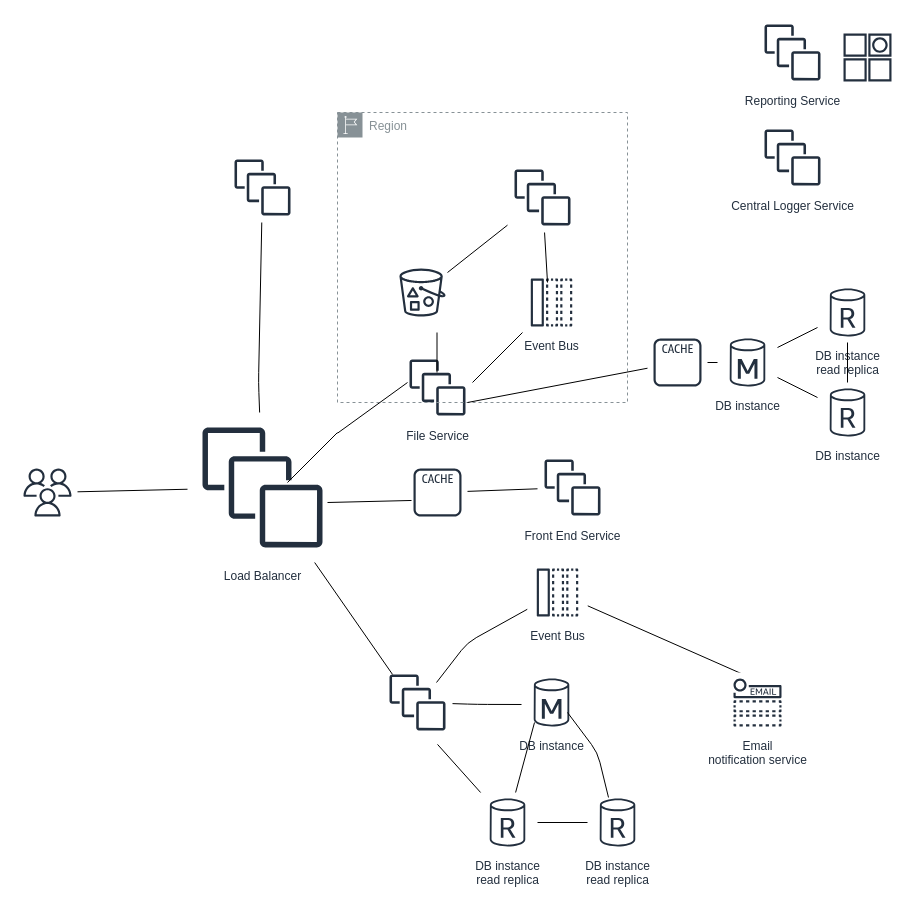
Some shapes in this 915 by 906 pixel diagram are drawn without their labels. Here are the shapes that lost their labels. From the top down, the centre of each, then its label:
At (867,57): "ELK".
At (262,187): "Admin Service".
At (542,197): "File Deleter Service".
At (422,292): "S3 Bucket".
At (677,362): "Global Redis Cache".
At (47,492): "Users".
At (437,492): "Front End Cache".
At (417,702): "Auth Service".
